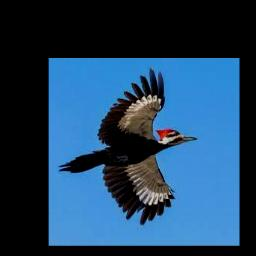Woodpecker: (58, 66, 198, 225)
